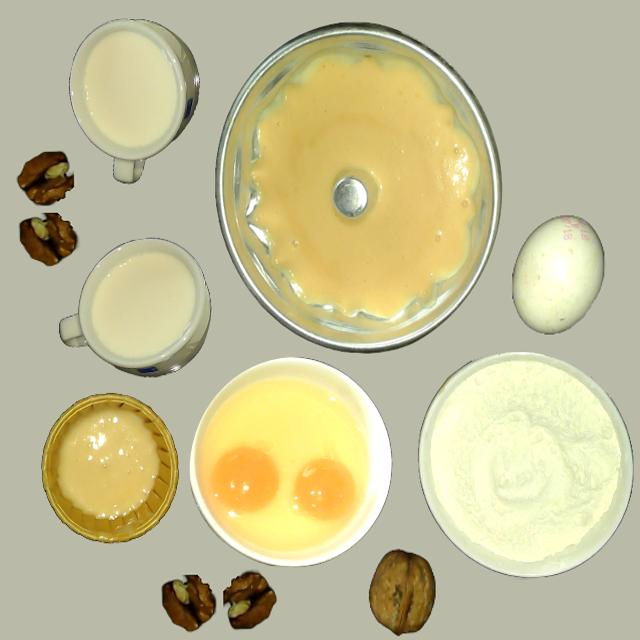Walnut: (369, 551, 434, 635)
